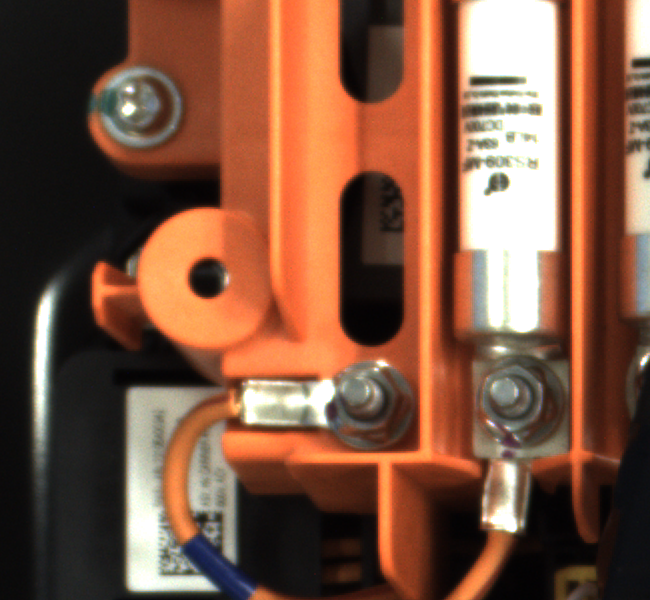screw_m: (88, 59, 204, 154)
screw_s: (473, 351, 572, 452), (319, 359, 416, 444)
